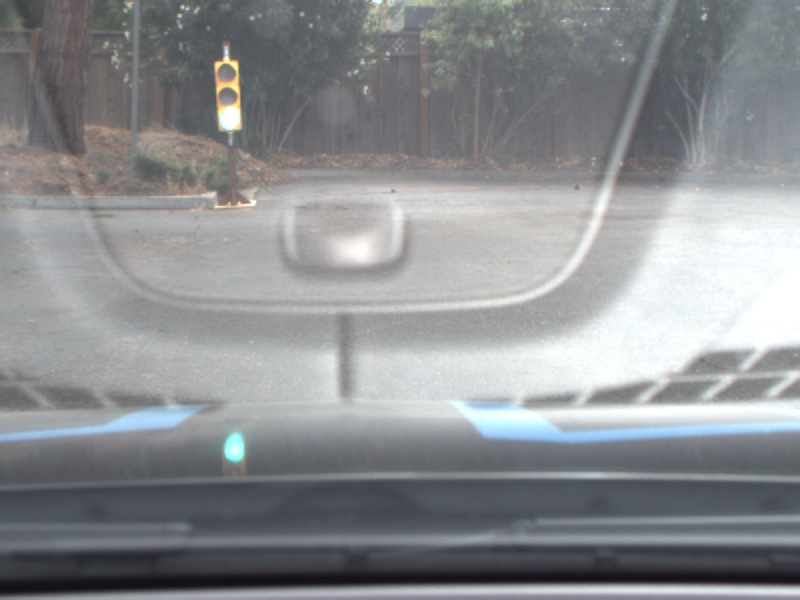green: (211, 53, 242, 135)
